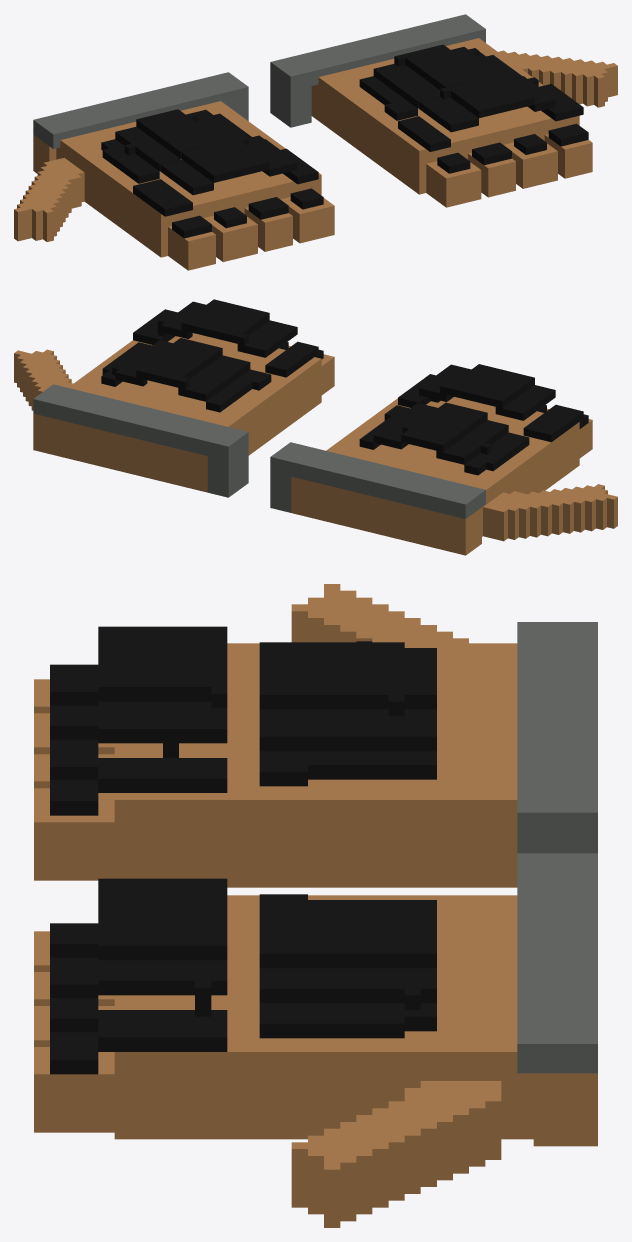
The model's file is gloves_airsoft.glb.
The picture shows the model from 3 angles, top to bottom: view 1: azimuth 30°, elevation 25°; view 2: azimuth 150°, elevation 25°; view 3: azimuth 270°, elevation 25°; orthographic projection. The views are drawn at different scales.
Parts seen in each view (by area): view 1: gloves_airsoft:compound; view 2: gloves_airsoft:compound; view 3: gloves_airsoft:compound.
Boxes of the visible parts, x1,y1,x2,y2 form: gloves_airsoft:compound: [14, 14, 617, 270]; gloves_airsoft:compound: [14, 299, 617, 555]; gloves_airsoft:compound: [34, 584, 597, 1227].
Bounding box in the file's own units: 0.344 × 0.04 × 0.14.
